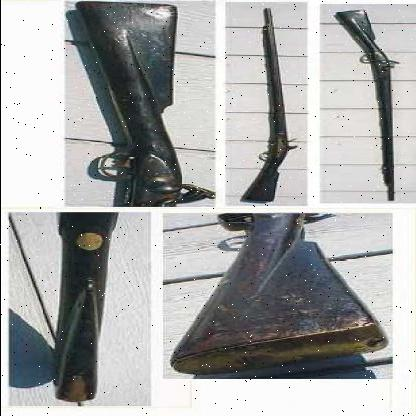rifle: (50, 0, 209, 203), (316, 7, 415, 202), (217, 6, 312, 207)
